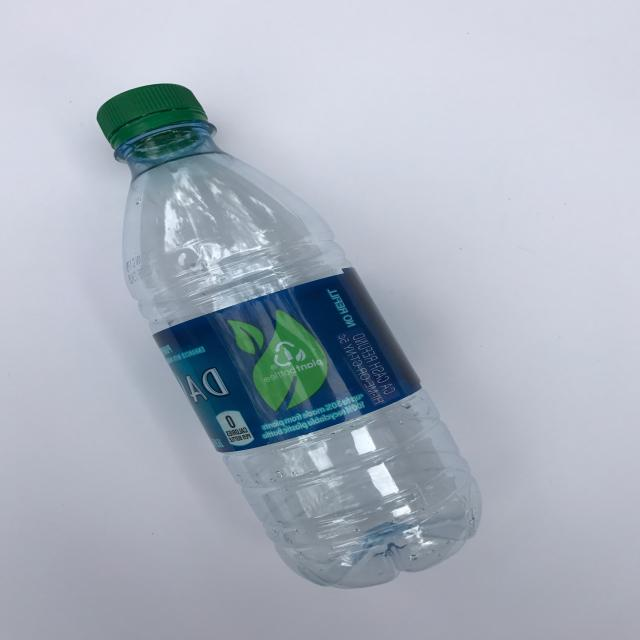plastic: (96, 81, 484, 590)
